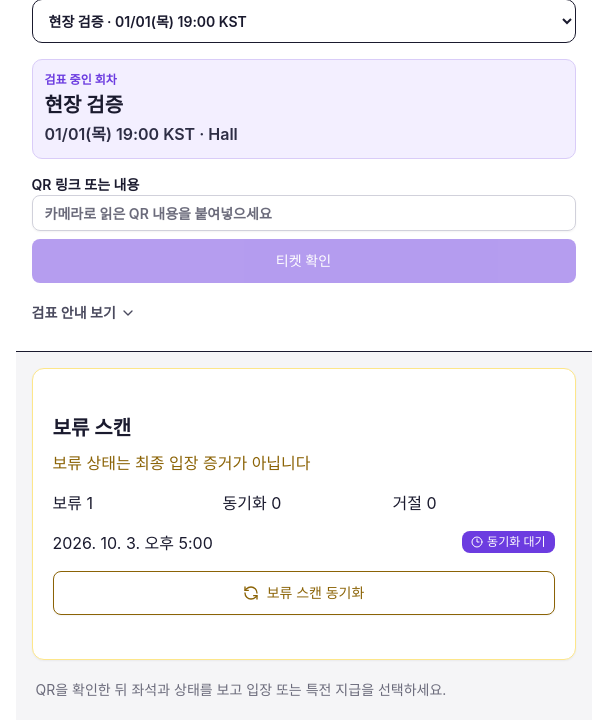
Scenario: FieldCheckInPage device-wide pending entries (#117) › tells staff another tab is syncing when a manual sync cannot take the device lock
The image size is (609, 720).
(page scrolled)
Expected: the text "보류 스캔" is shown, [52, 416, 131, 440]
Expected: the text "다른 탭에서 동기화 중입니다. 잠시 뒤 다시 시도하세요." is not shown
Click the button "보류 스캔 동기화" at (304, 593), box [52, 571, 554, 615]
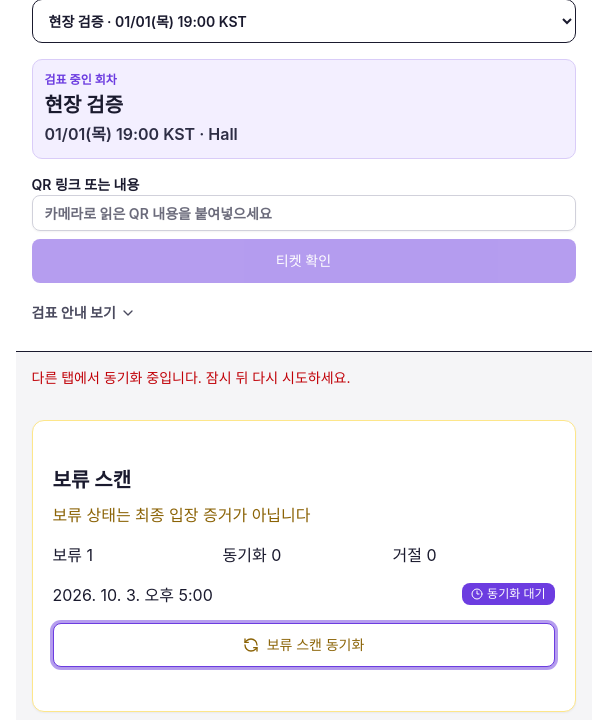
Expected: the text "다른 탭에서 동기화 중입니다. 잠시 뒤 다시 시도하세요." is shown, [32, 369, 350, 386]
